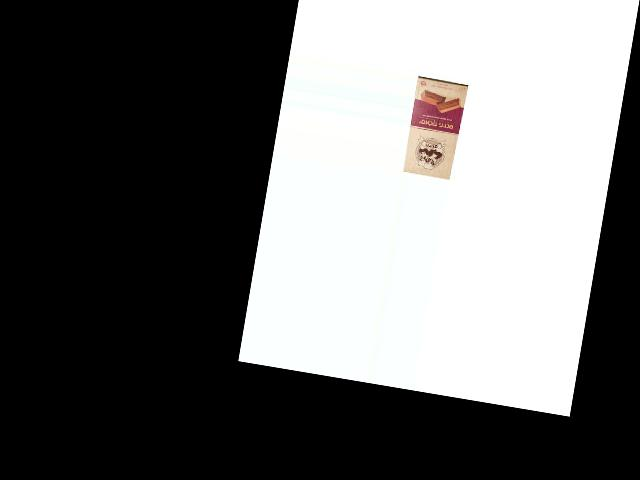chocolate: (403, 76, 469, 180)
